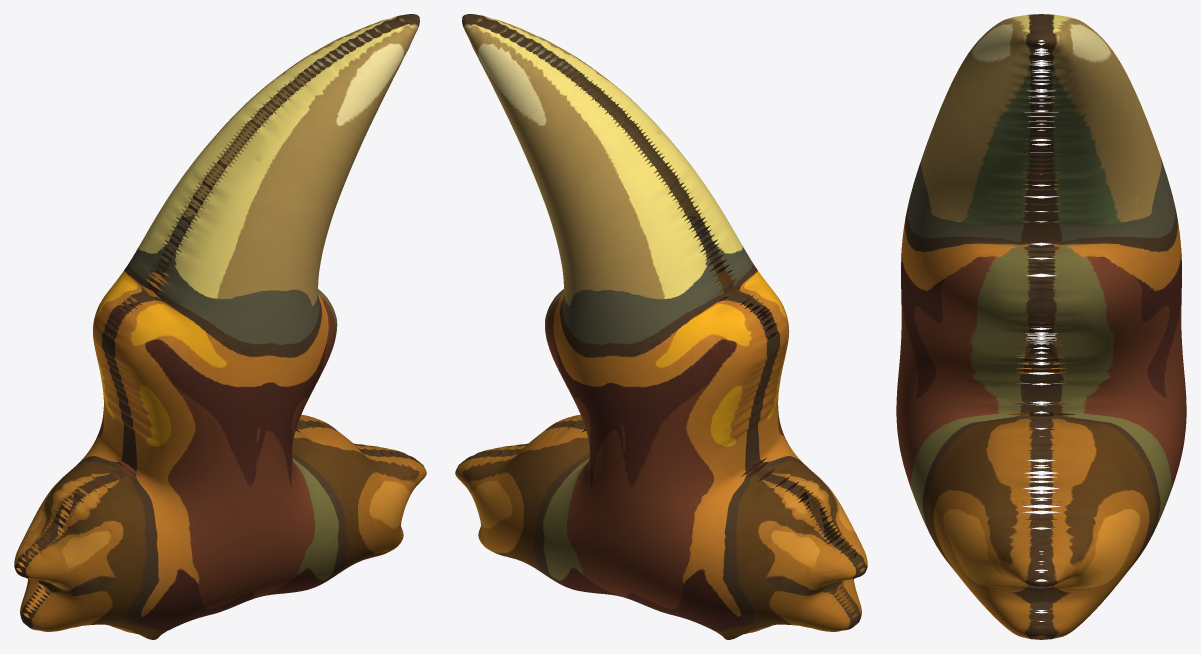
Rendered from tusk_stump.glb.
The picture shows the model from 3 angles, left to right: view 1: azimuth 30°, elevation 25°; view 2: azimuth 150°, elevation 25°; view 3: azimuth 270°, elevation 25°; orthographic projection. The views are drawn at different scales.
Visible parts, largest first — view 1: tusk_stump; view 2: tusk_stump; view 3: tusk_stump.
Part boxes in pixels (bbox=[...]): tusk_stump: bbox=[14, 14, 426, 639]; tusk_stump: bbox=[455, 14, 867, 639]; tusk_stump: bbox=[896, 14, 1186, 639].
Size of the model in its own units: 0.9855 by 1.25 by 0.5144.
1 material, 1 textured.
